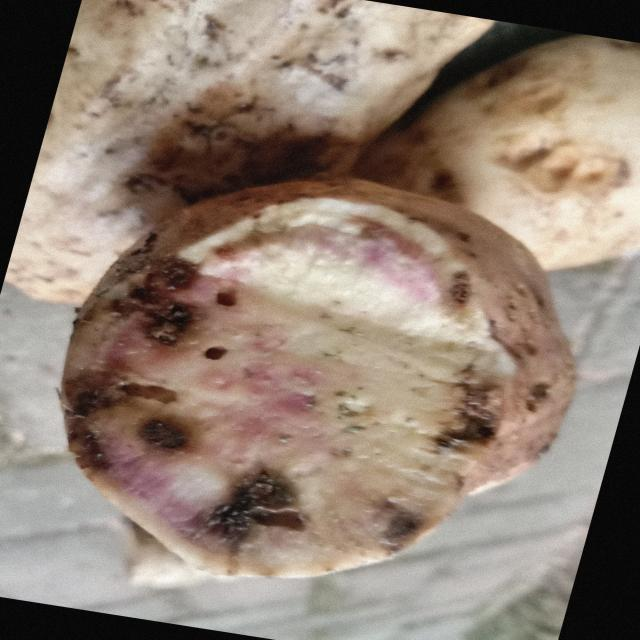Sick Sweet Potato_Tuber Rot: (62, 181, 517, 576)
